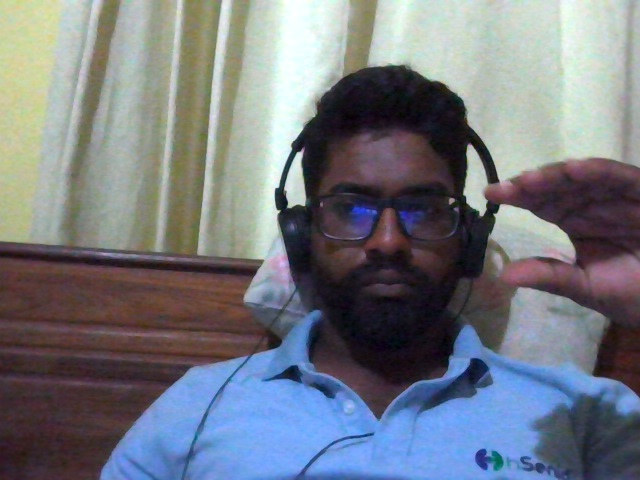No: (443, 81, 640, 369)
